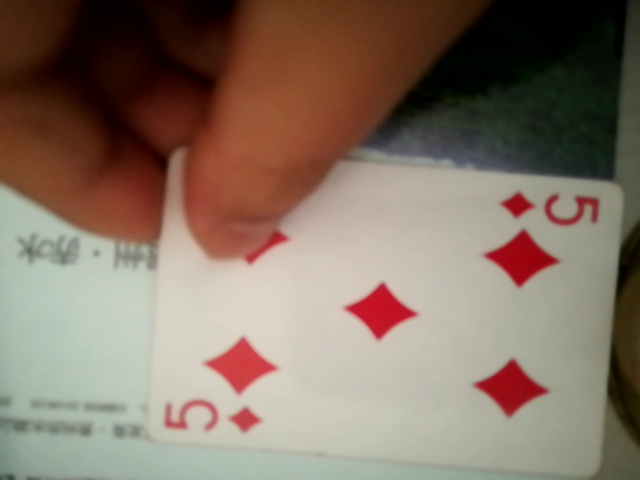fk 5: (134, 157, 622, 476)
